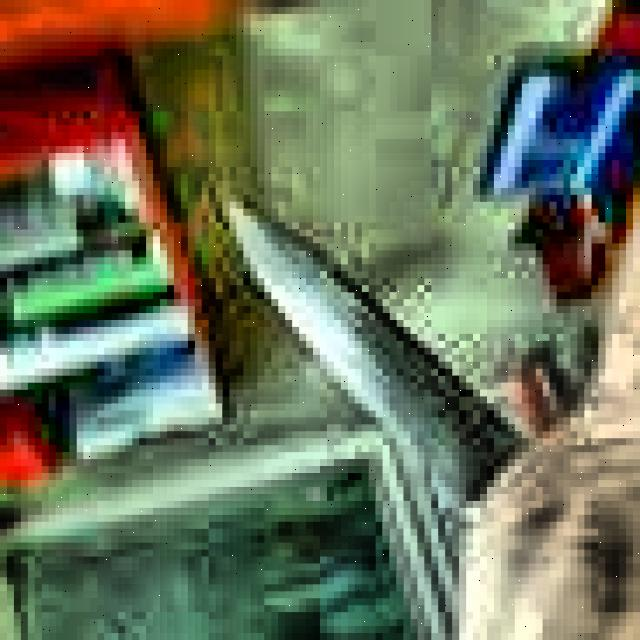knife: (231, 207, 529, 502)
